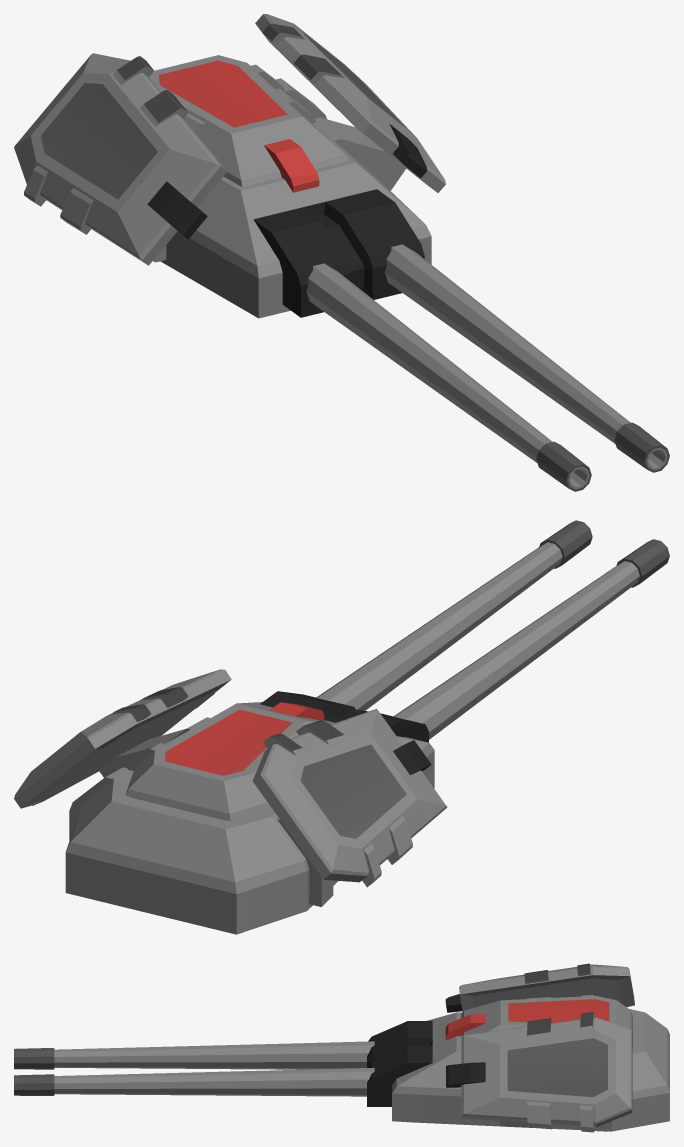
The model's file is model_polyfleet_battleship_canon06.fbx.
The picture shows the model from 3 angles, top to bottom: view 1: azimuth 30°, elevation 25°; view 2: azimuth 150°, elevation 25°; view 3: azimuth 270°, elevation 25°; orthographic projection. The views are drawn at different scales.
Visible parts, largest first — view 1: model_cannon06, model_cannon_small_barrels, model_cannon_small_barrels1; view 2: model_cannon06, model_cannon_small_barrels1, model_cannon_small_barrels; view 3: model_cannon06, model_cannon_small_barrels, model_cannon_small_barrels1.
Boxes of the visible parts, x1,y1,x2,y2 form: model_cannon06: (14, 14, 445, 318); model_cannon_small_barrels: (384, 244, 669, 472); model_cannon_small_barrels1: (306, 263, 591, 491); model_cannon06: (14, 669, 447, 934); model_cannon_small_barrels1: (393, 539, 669, 739); model_cannon_small_barrels: (316, 520, 592, 710); model_cannon06: (367, 963, 669, 1132); model_cannon_small_barrels: (14, 1067, 374, 1096); model_cannon_small_barrels1: (14, 1041, 374, 1069).
Size of the model in its own units: 365 by 156 by 844.
